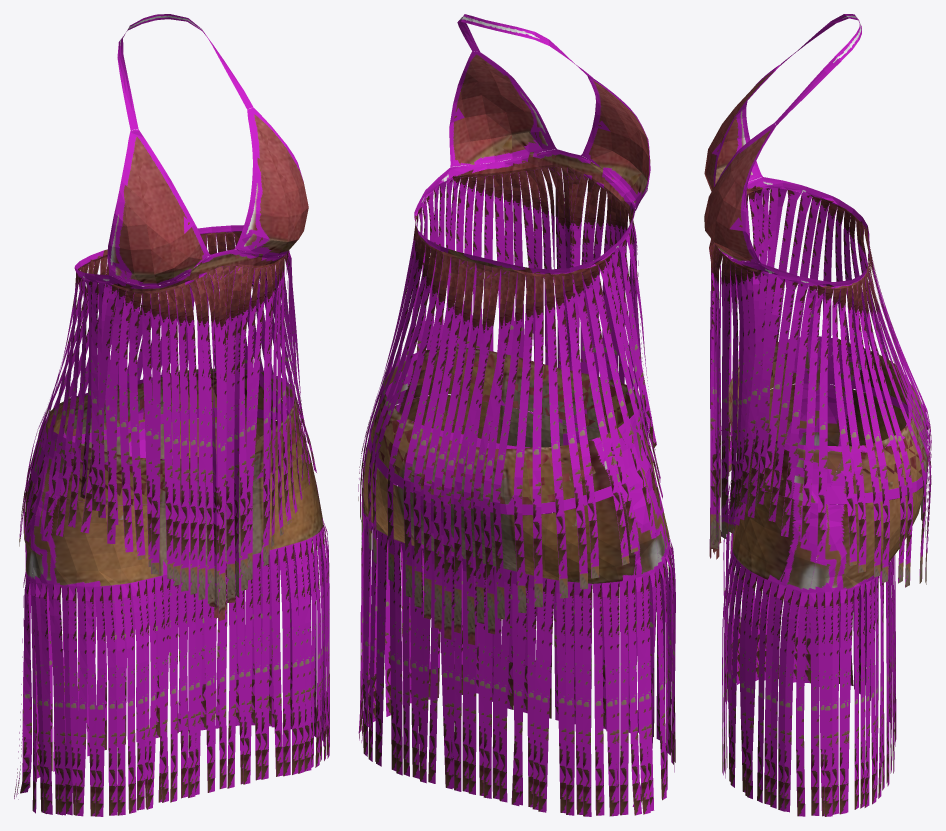
3 renders of one model, left to right at view 1: azimuth 30°, elevation 25°; view 2: azimuth 150°, elevation 25°; view 3: azimuth 270°, elevation 25°, orthographic. The views are drawn at different scales.
Bounding box in the file's own units: 0.3892 × 0.954 × 0.2699.
1 material, 1 textured.
